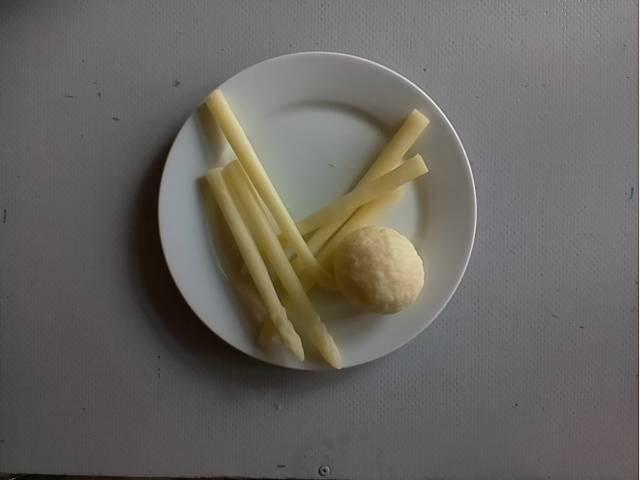Asparagus + dumpling: (205, 83, 425, 372)
